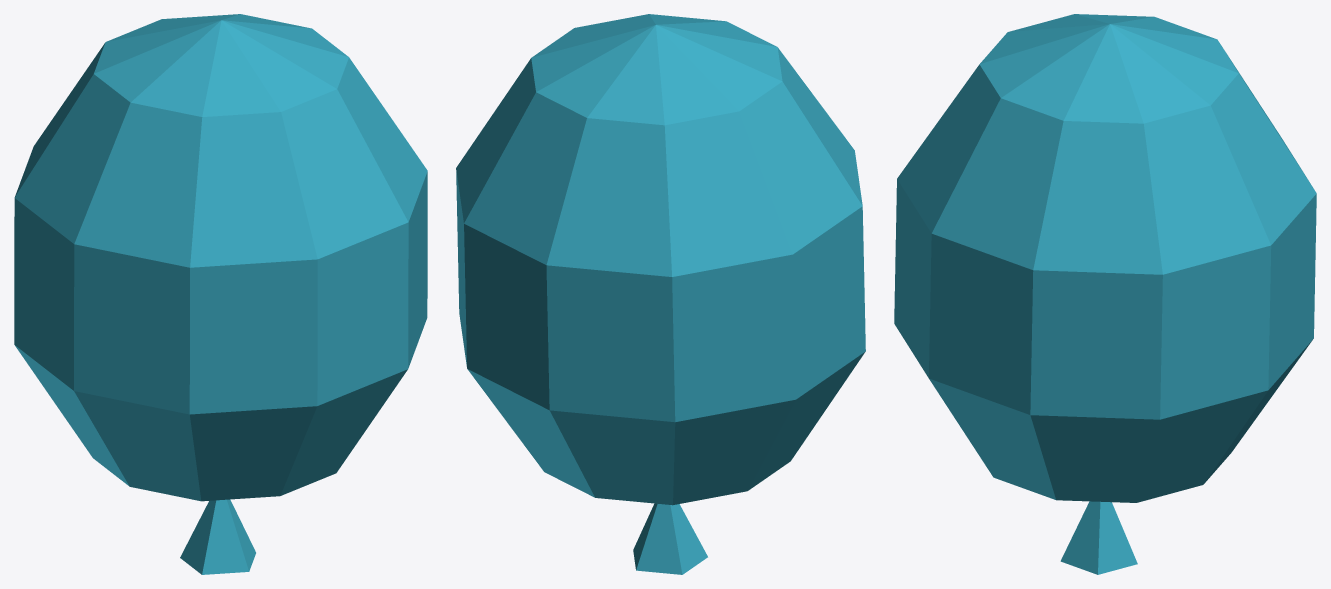
File: balloon_blue.fbx
The picture shows the model from 3 angles, left to right: view 1: azimuth 30°, elevation 25°; view 2: azimuth 150°, elevation 25°; view 3: azimuth 270°, elevation 25°; orthographic projection.
Visible parts, largest first — view 1: balloon_blue; view 2: balloon_blue; view 3: balloon_blue.
Part boxes in pixels (x1,y1,x2,y2): balloon_blue: (14,14,427,574); balloon_blue: (456,14,865,574); balloon_blue: (894,14,1316,574).
Bounding box in the file's own units: 359 × 523 × 373.
Materials: 1 (1 with a texture image).
